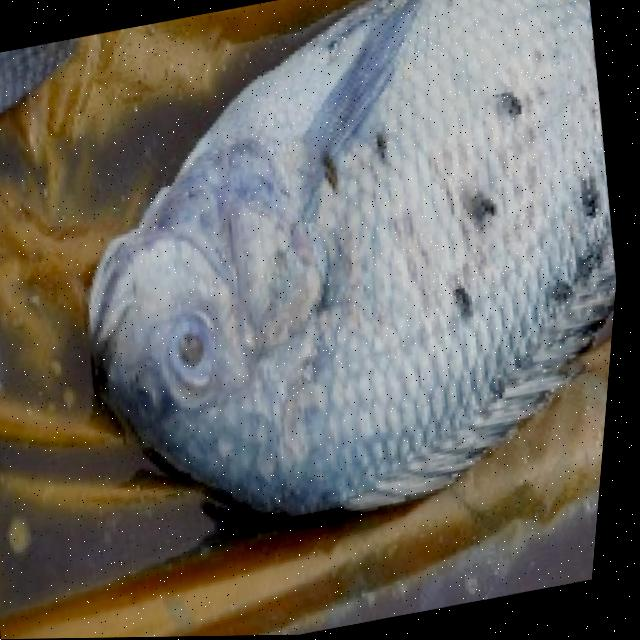Non-Fresh: (51, 0, 640, 516)
